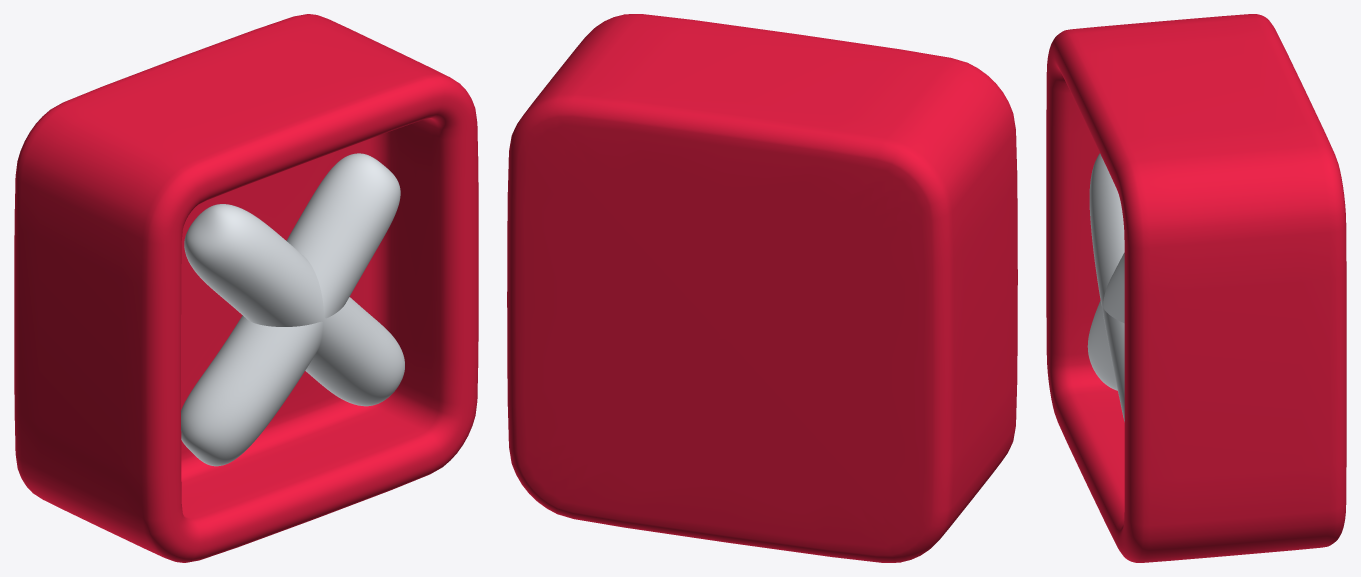
The model's file is empty-checkboxes-3d-animated-icon-1038838589353.glb.
3 views of the same model, side by side, from view 1: azimuth 30°, elevation 25°; view 2: azimuth 150°, elevation 25°; view 3: azimuth 270°, elevation 25° (orthographic). The views are drawn at different scales.
Parts seen in each view (by area): view 1: CheckBox, X.001; view 2: CheckBox; view 3: CheckBox, X.001.
Part boxes in pixels (x1,y1,x2,y2): CheckBox: [14, 14, 478, 562]; X.001: [181, 153, 404, 466]; CheckBox: [507, 14, 1017, 562]; CheckBox: [1046, 14, 1346, 562]; X.001: [1087, 153, 1124, 421].
Bounding box in the file's own units: 1.07 × 1 × 0.6815.
